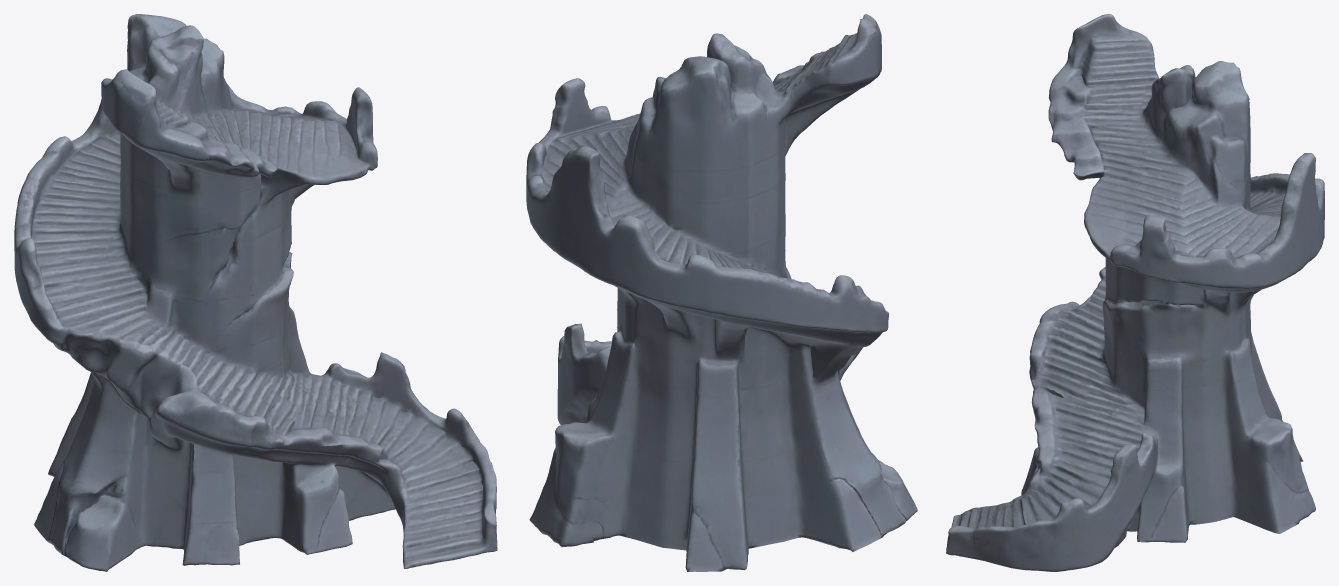
The model's file is escalera_caracol.glb.
3 renders of one model, left to right at view 1: azimuth 30°, elevation 25°; view 2: azimuth 150°, elevation 25°; view 3: azimuth 270°, elevation 25°, orthographic. The views are drawn at different scales.
Visible parts, largest first — view 1: tripo_node_5e5fe0a0; view 2: tripo_node_5e5fe0a0; view 3: tripo_node_5e5fe0a0.
Part boxes in pixels (left/top/right/bottom): tripo_node_5e5fe0a0: left=14, top=14, right=497, bottom=571; tripo_node_5e5fe0a0: left=526, top=14, right=917, bottom=571; tripo_node_5e5fe0a0: left=946, top=14, right=1324, bottom=571.
Bounding box in the file's own units: 81.55 × 99.81 × 81.35.
Materials: 1 (1 with a texture image).
